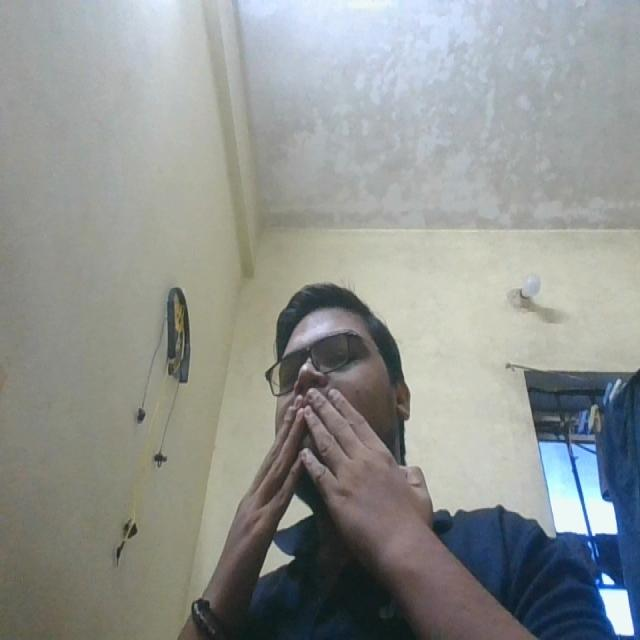Thanks: (206, 364, 440, 624)
